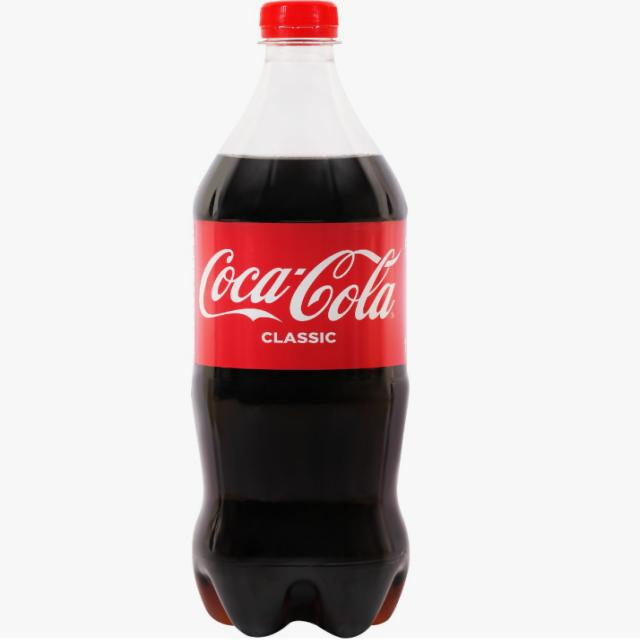supermarket-product: (194, 230, 437, 360)
